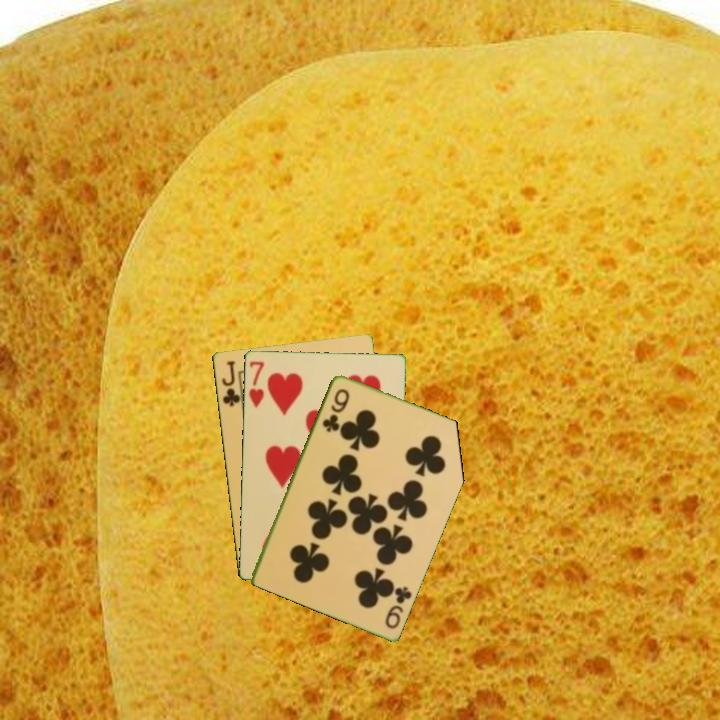7h: (245, 358, 267, 410)
9c: (318, 384, 352, 435), (381, 582, 415, 632)
Jc: (218, 357, 243, 409)
